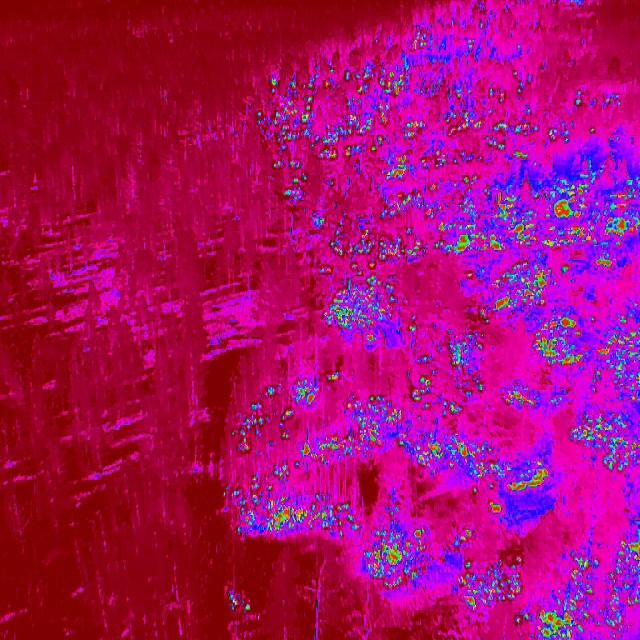fire: (255, 56, 548, 200), (436, 178, 640, 272), (232, 375, 403, 467), (406, 328, 492, 477), (220, 462, 360, 546), (534, 312, 640, 402), (312, 198, 438, 270), (323, 273, 408, 347), (532, 550, 602, 638), (478, 256, 556, 319), (569, 411, 640, 471), (452, 558, 531, 610), (366, 522, 426, 590), (484, 460, 550, 512), (607, 528, 640, 630), (496, 380, 571, 414), (545, 120, 595, 150), (404, 25, 436, 55), (227, 589, 253, 617), (449, 529, 477, 546), (574, 88, 586, 110)
